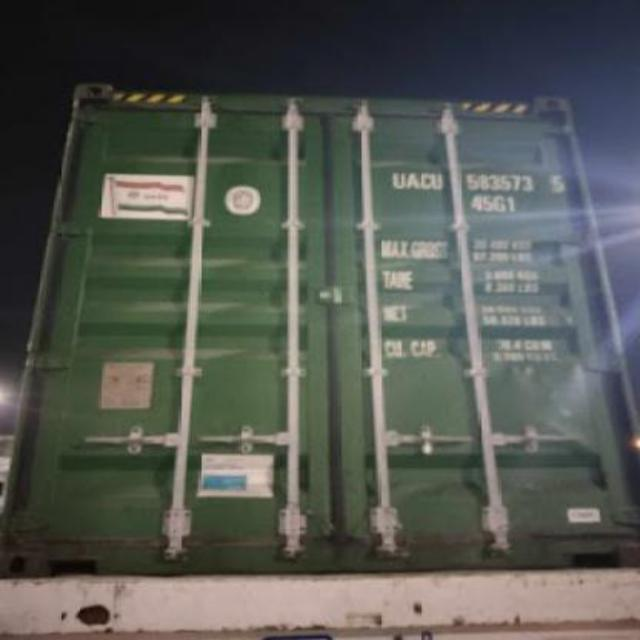3: (488, 173, 500, 191), (522, 175, 534, 191)
5: (552, 175, 566, 191), (466, 174, 479, 190), (500, 175, 510, 191)
7: (508, 175, 522, 191)
8: (478, 173, 488, 191)
A: (406, 172, 418, 190)
C: (420, 174, 432, 190)
U: (390, 172, 408, 188), (432, 174, 442, 190)
